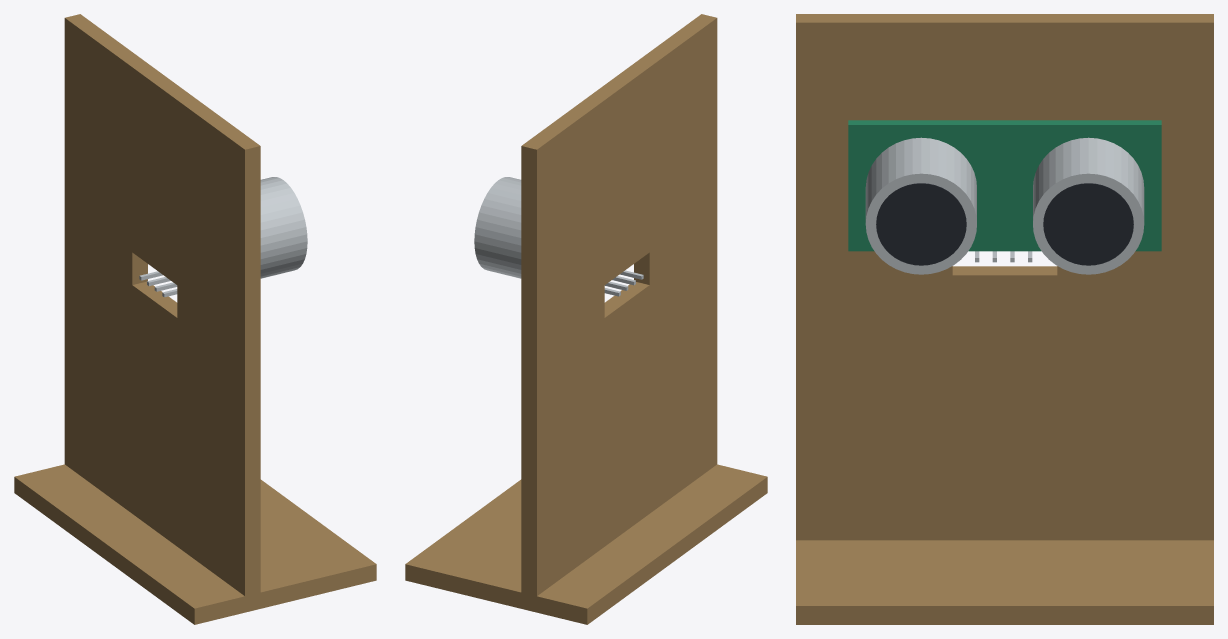
File: sensor_B.glb
3 views of the same model, side by side, from view 1: azimuth 30°, elevation 25°; view 2: azimuth 150°, elevation 25°; view 3: azimuth 270°, elevation 25° (orthographic). The views are drawn at different scales.
Parts seen in each view (by area): view 1: suporte_B, pe_sensor_B, transdutor_B168; view 2: suporte_B, pe_sensor_B, transdutor_B192; view 3: suporte_B, pe_sensor_B, HC_SR04_PCB_B, transdutor_B168, transdutor_B192, face_B168, face_B192.
Boxes of the visible parts, left/top/right/bottom form: suporte_B: left=64, top=14, right=260, bottom=596; pe_sensor_B: left=14, top=464, right=376, bottom=624; transdutor_B168: left=260, top=177, right=307, bottom=278; suporte_B: left=521, top=14, right=717, bottom=596; pe_sensor_B: left=405, top=464, right=767, bottom=624; transdutor_B192: left=474, top=177, right=521, bottom=278; suporte_B: left=796, top=14, right=1213, bottom=540; pe_sensor_B: left=796, top=540, right=1213, bottom=624; HC_SR04_PCB_B: left=848, top=120, right=1161, bottom=251; transdutor_B168: left=865, top=137, right=976, bottom=274; transdutor_B192: left=1033, top=137, right=1144, bottom=274; face_B168: left=876, top=183, right=966, bottom=265; face_B192: left=1043, top=183, right=1133, bottom=265.
Bounding box in the file's own units: 0.035 × 0.085 × 0.06.
